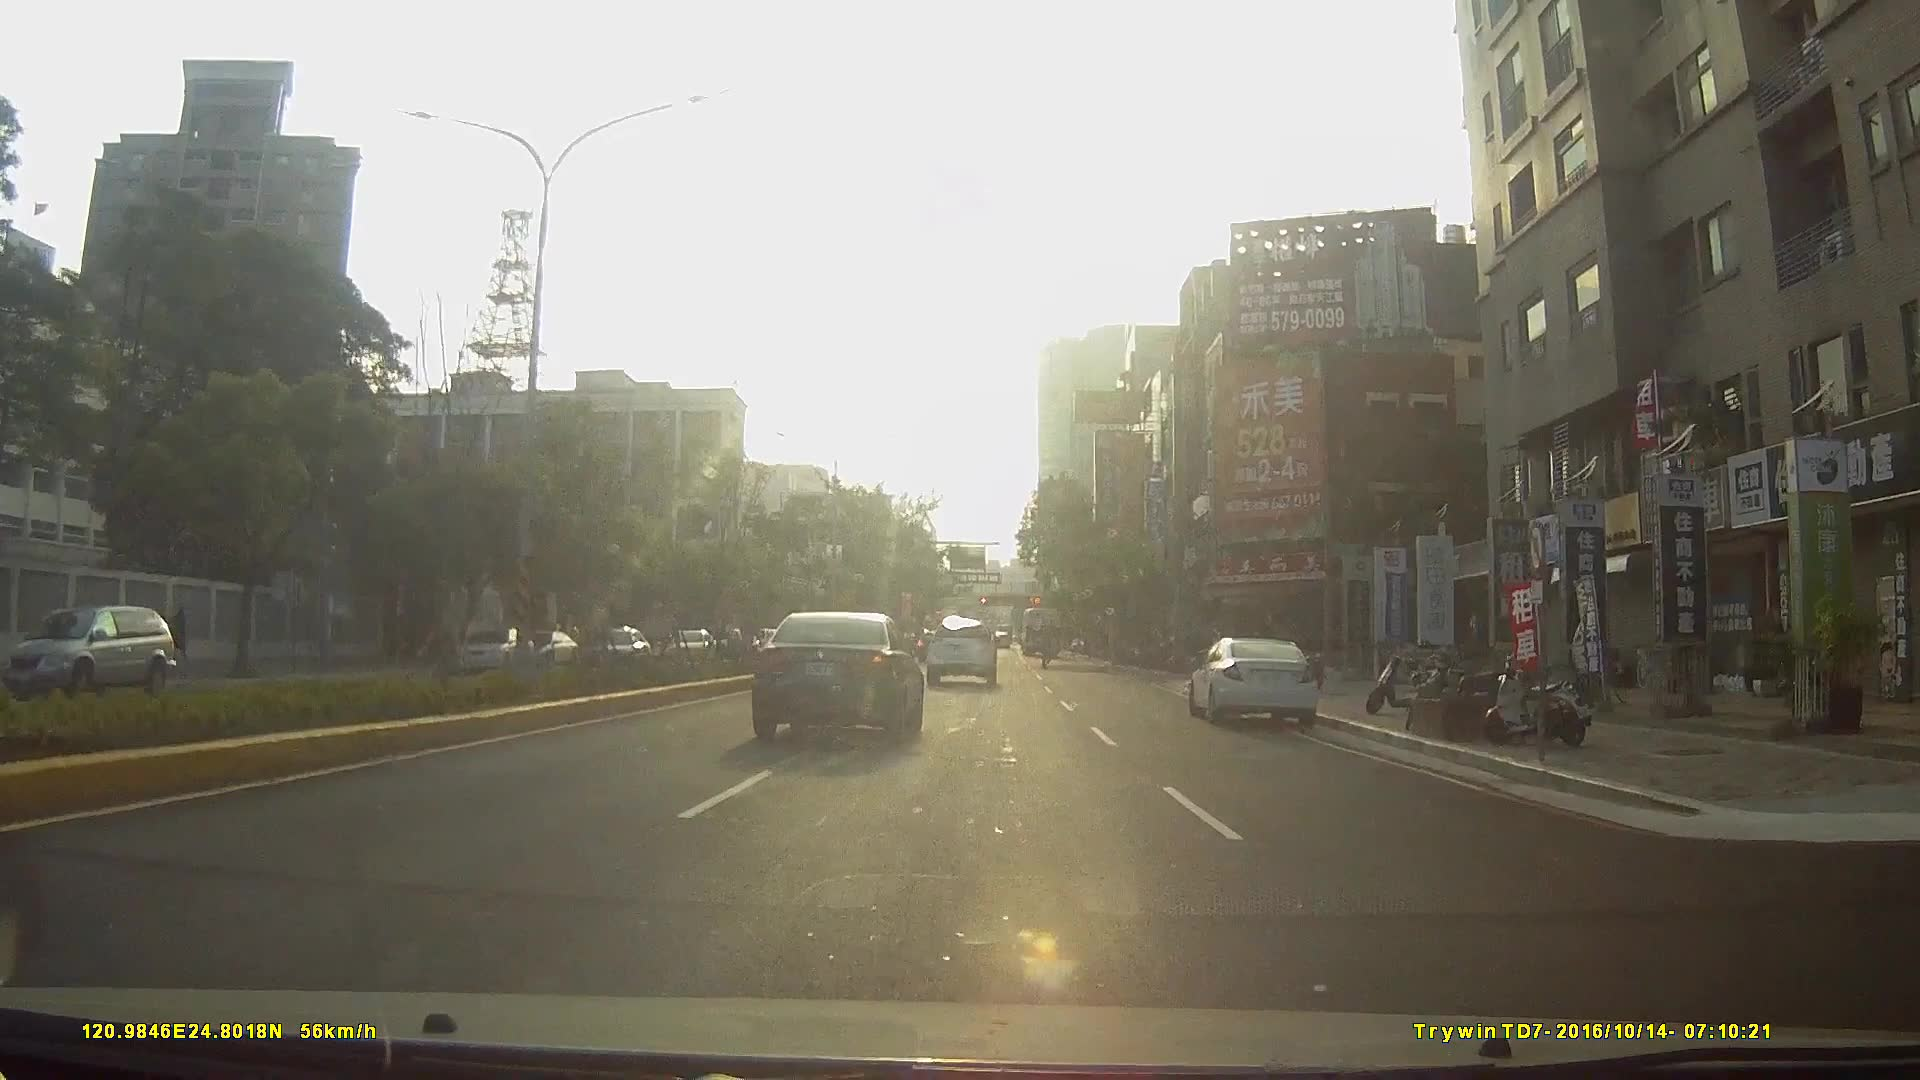pedestrian: (170, 606, 190, 667)
vehicle: (751, 607, 926, 742), (9, 605, 169, 705), (1189, 630, 1324, 725), (926, 614, 998, 686), (447, 625, 531, 673), (587, 626, 658, 680), (1017, 600, 1065, 653), (658, 629, 722, 669), (519, 626, 579, 662)
